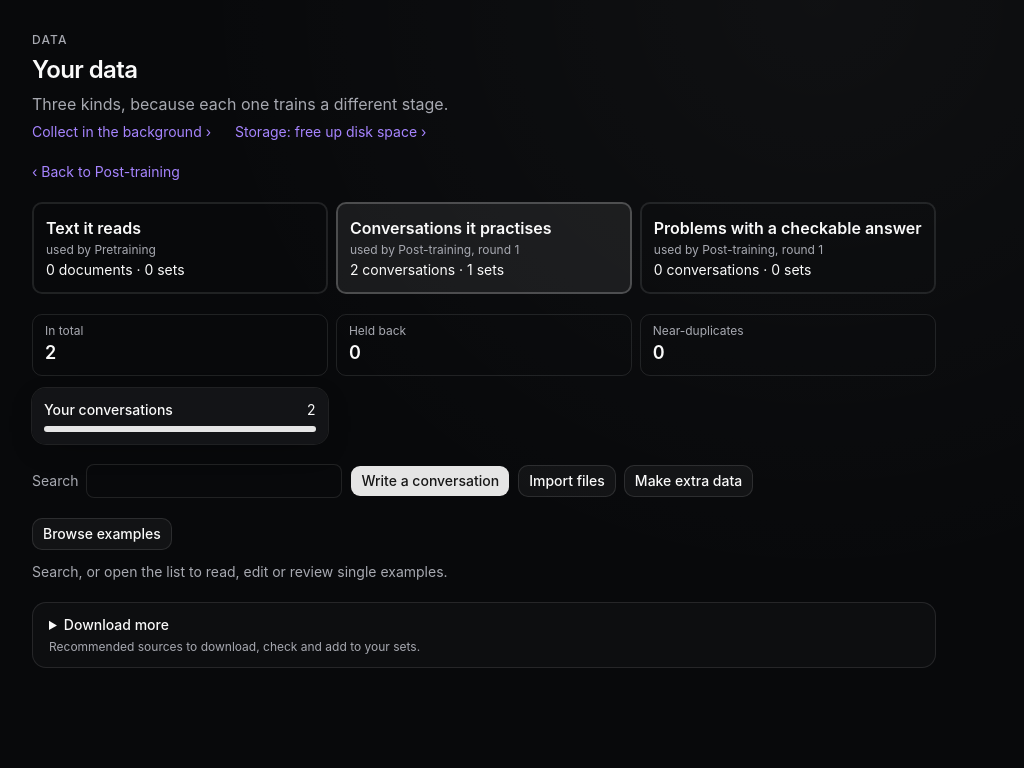
Scenario: Your data page › searching opens the examples list without the Browse click
Type "prime" into the field named "Search conversations". click: (214, 481)
box: [86, 464, 342, 498]
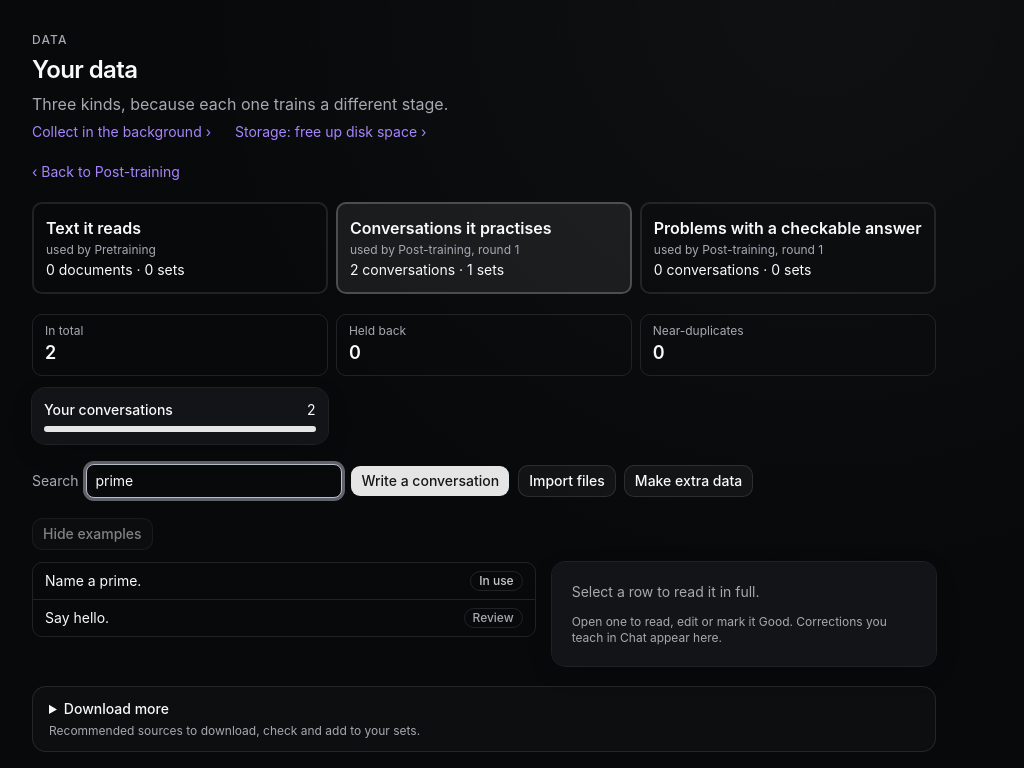
Now the list item with test id "row-c1" is shown, box [33, 563, 535, 600]
